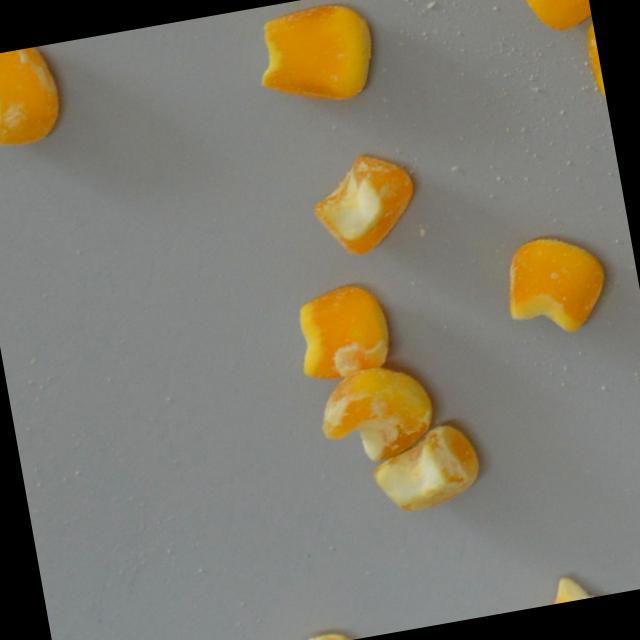pelicula: (246, 0, 381, 114), (313, 359, 441, 471), (303, 146, 426, 262), (496, 227, 615, 342), (366, 421, 487, 518), (288, 280, 396, 385), (0, 42, 68, 148), (530, 565, 637, 607), (580, 11, 609, 116), (523, 0, 593, 36), (279, 623, 377, 640)
